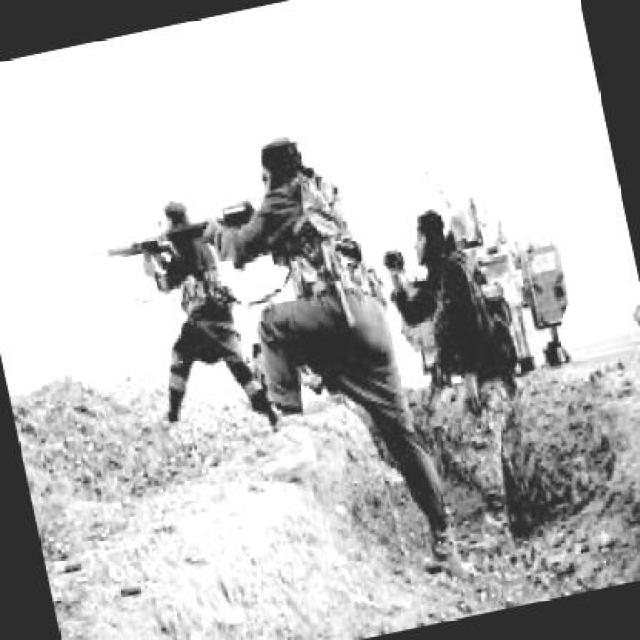MIL_Pax: (206, 118, 457, 582), (116, 182, 275, 448), (376, 187, 524, 411)
